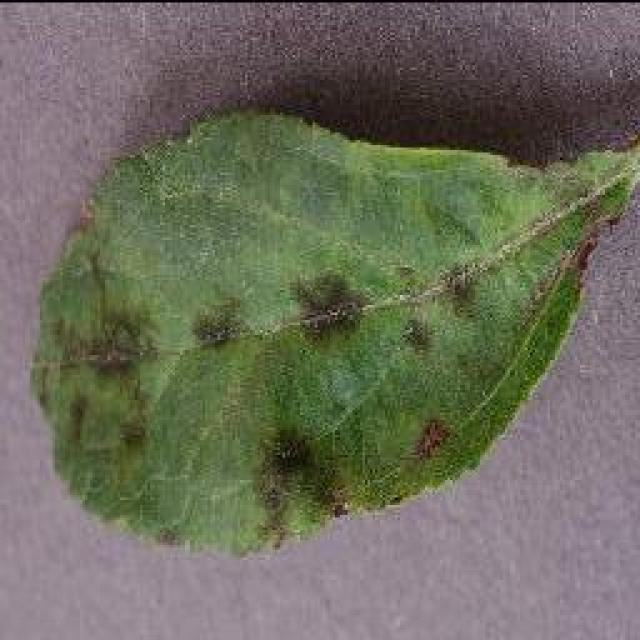apple scab disease: (25, 98, 637, 558)
